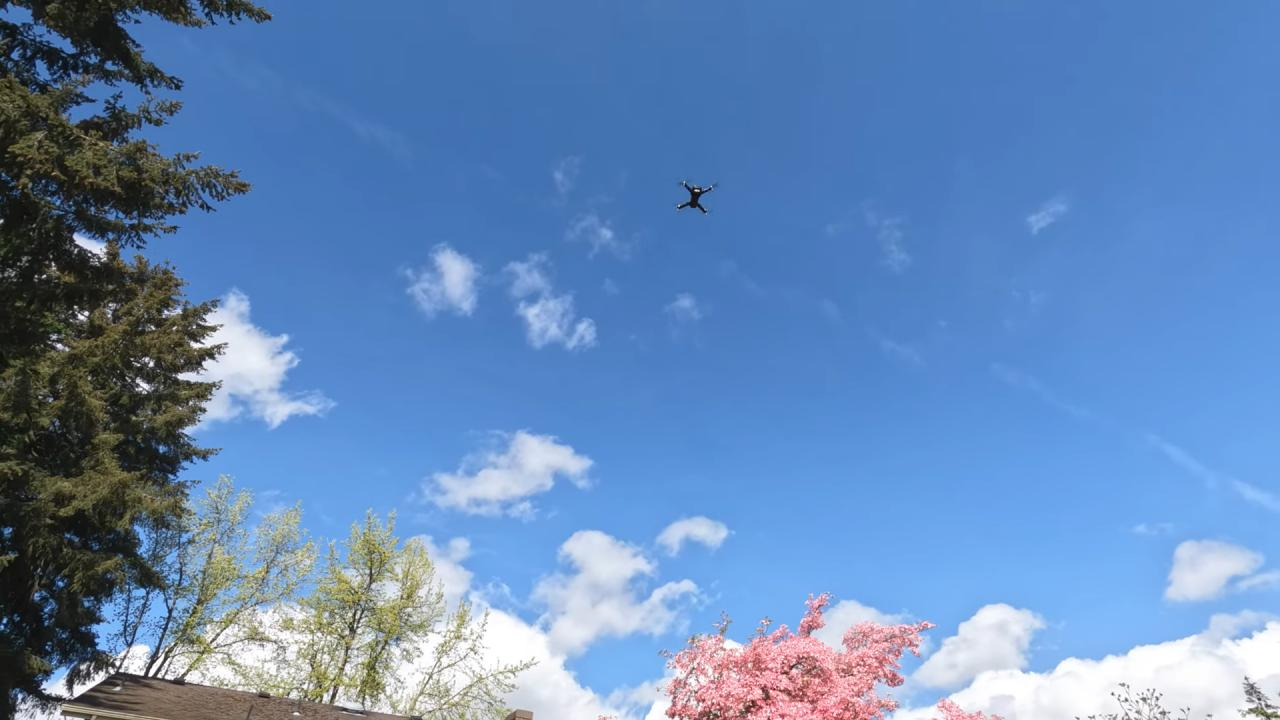Drone: (666, 166, 730, 226)
